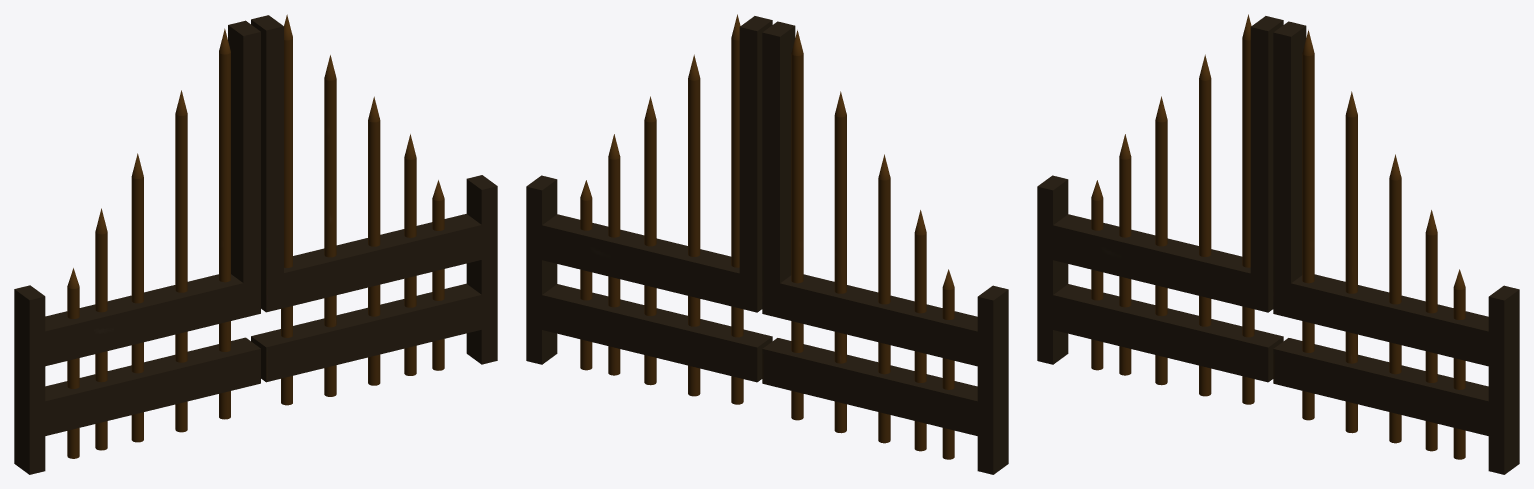
The model's file is Gate1door_Asset.fbx.
3 views of the same model, side by side, from view 1: azimuth 30°, elevation 25°; view 2: azimuth 150°, elevation 25°; view 3: azimuth 330°, elevation 25° (orthographic).
Visible parts, largest first — view 1: pCube5, pCube4; view 2: pCube5, pCube4; view 3: pCube4, pCube5.
Boxes of the visible parts, box(x1,y1,x2,y2) form: pCube5: box(14, 20, 260, 474); pCube4: box(251, 14, 497, 405); pCube5: box(762, 21, 1008, 474); pCube4: box(526, 14, 772, 404); pCube4: box(1273, 21, 1519, 474); pCube5: box(1037, 14, 1283, 404).
Bounding box in the file's own units: 2.42 × 1.93 × 0.1365.
